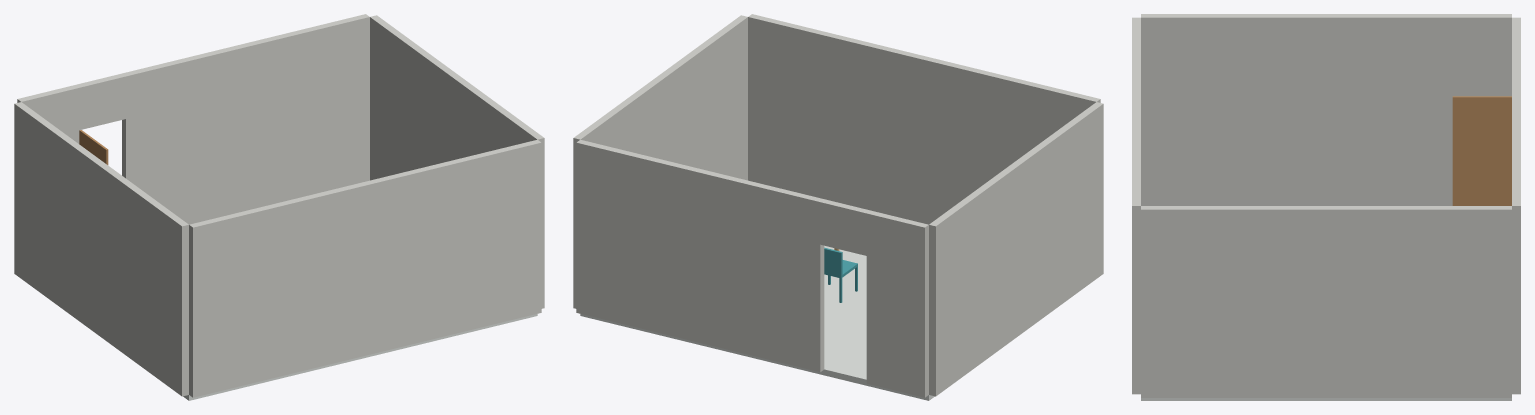
3 views of the same model, side by side, from view 1: azimuth 30°, elevation 25°; view 2: azimuth 150°, elevation 25°; view 3: azimuth 270°, elevation 25° (orthographic). The views are drawn at different scales.
Parts seen in each view (by area): view 1: room:north:full, room:south:high, room:west:full, room:east:full, room:south:lintel, room:south:low, room:floor, door:leaf; view 2: room:north:full, room:south:high, room:west:full, room:east:full, room:south:low, room:floor, room:south:lintel, door-seat:chair:back; view 3: room:east:full, room:west:full, door:leaf, room:north:full, room:south:high, room:floor.
Part boxes in pixels (<box>): room:north:full: <box>189,139,541,397</box>; room:south:high: <box>122,14,369,224</box>; room:west:full: <box>14,102,188,396</box>; room:east:full: <box>370,15,544,308</box>; room:south:lintel: <box>76,73,125,130</box>; room:south:low: <box>17,85,79,143</box>; room:floor: <box>183,314,537,400</box>; door:leaf: <box>79,130,108,164</box>; room:north:full: <box>748,14,1100,224</box>; room:south:high: <box>576,139,824,372</box>; room:west:full: <box>929,102,1103,396</box>; room:east:full: <box>573,15,747,308</box>; room:south:low: <box>866,210,928,397</box>; room:floor: <box>580,245,934,400</box>; room:south:lintel: <box>820,199,870,255</box>; door-seat:chair:back: <box>824,247,842,275</box>; room:east:full: <box>1141,206,1511,397</box>; room:west:full: <box>1141,14,1511,205</box>; door:leaf: <box>1452,96,1511,205</box>; room:north:full: <box>1132,17,1140,394</box>; room:south:high: <box>1512,74,1520,394</box>; room:floor: <box>1141,398,1511,400</box>.
Size of the model in its own units: 6.24 by 2.9 by 5.24.
